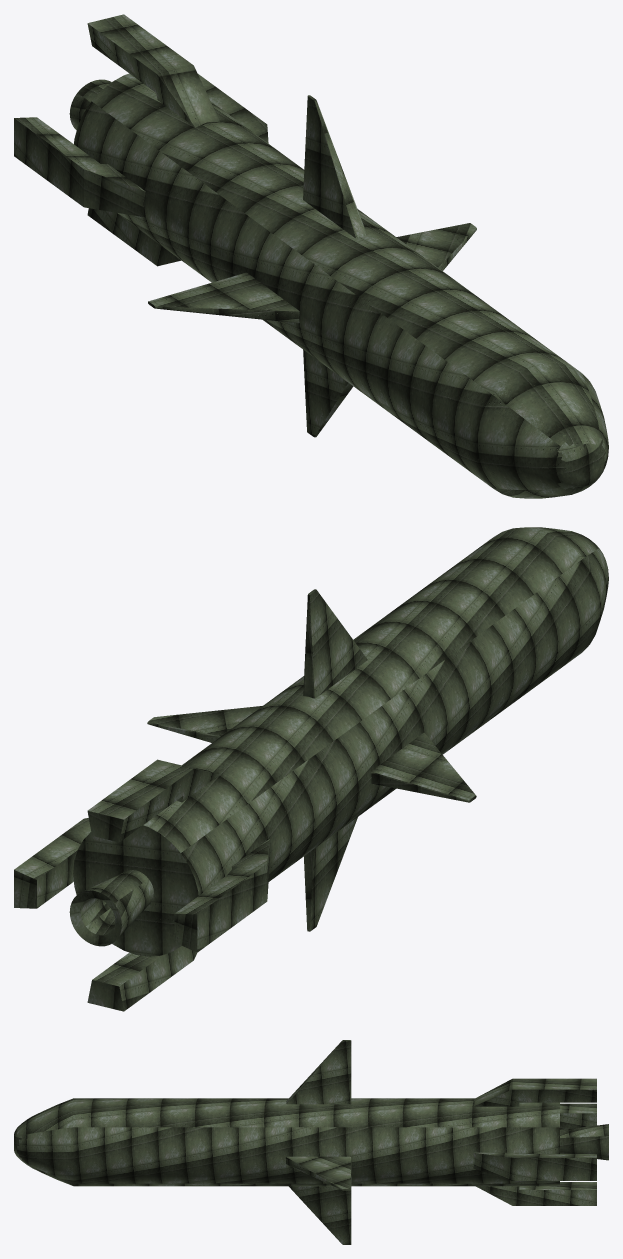
File: exo_missile.dae
3 renders of one model, top to bottom at view 1: azimuth 30°, elevation 25°; view 2: azimuth 150°, elevation 25°; view 3: azimuth 270°, elevation 25°, orthographic. The views are drawn at different scales.
Visible parts, largest first — view 1: exo_missile; view 2: exo_missile; view 3: exo_missile.
Boxes of the visible parts, x1,y1,x2,y2 form: exo_missile: (14,14,608,498); exo_missile: (14,527,608,1011); exo_missile: (14,1040,608,1244).
Bounding box in the file's own units: 0.3719 × 0.9831 × 0.3718.
Materials: 1 (1 with a texture image).
